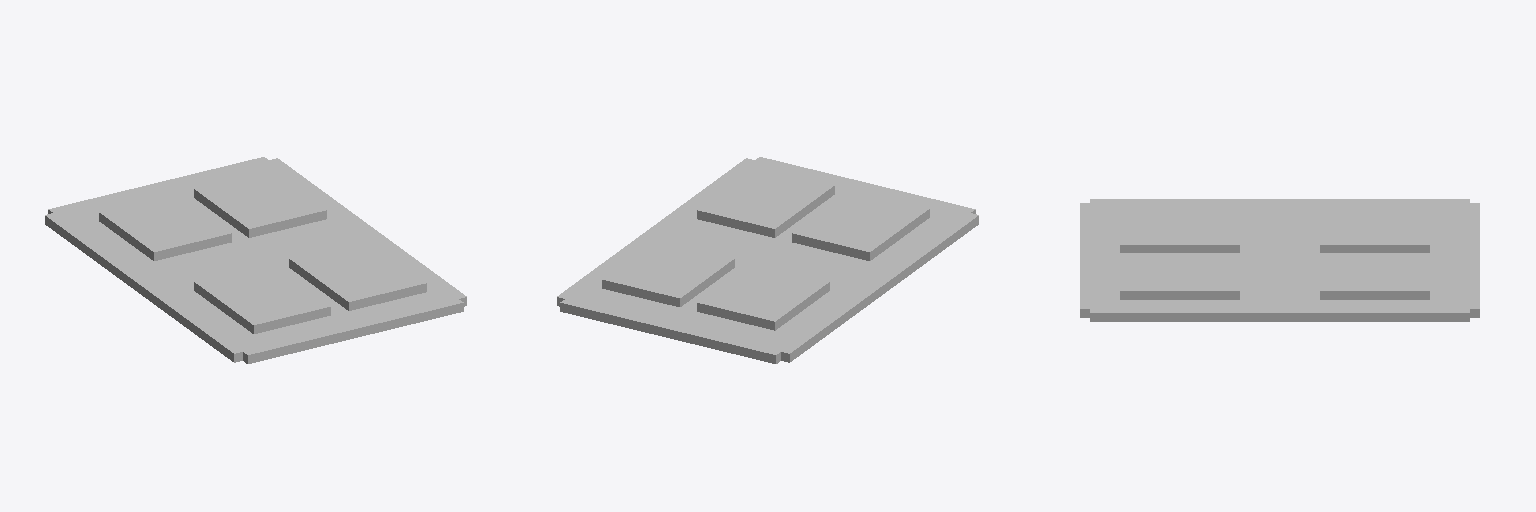
File: Platform.obj
3 views of the same model, side by side, from view 1: azimuth 30°, elevation 25°; view 2: azimuth 150°, elevation 25°; view 3: azimuth 270°, elevation 25° (orthographic).
Parts seen in each view (by area): view 1: object 1; view 2: object 1; view 3: object 1.
Boxes of the visible parts, x1,y1,x2,y2 form: object 1: [45, 157, 466, 363]; object 1: [557, 157, 978, 363]; object 1: [1080, 199, 1479, 321].
Bounding box in the file's own units: 2.7 × 0.2 × 4.